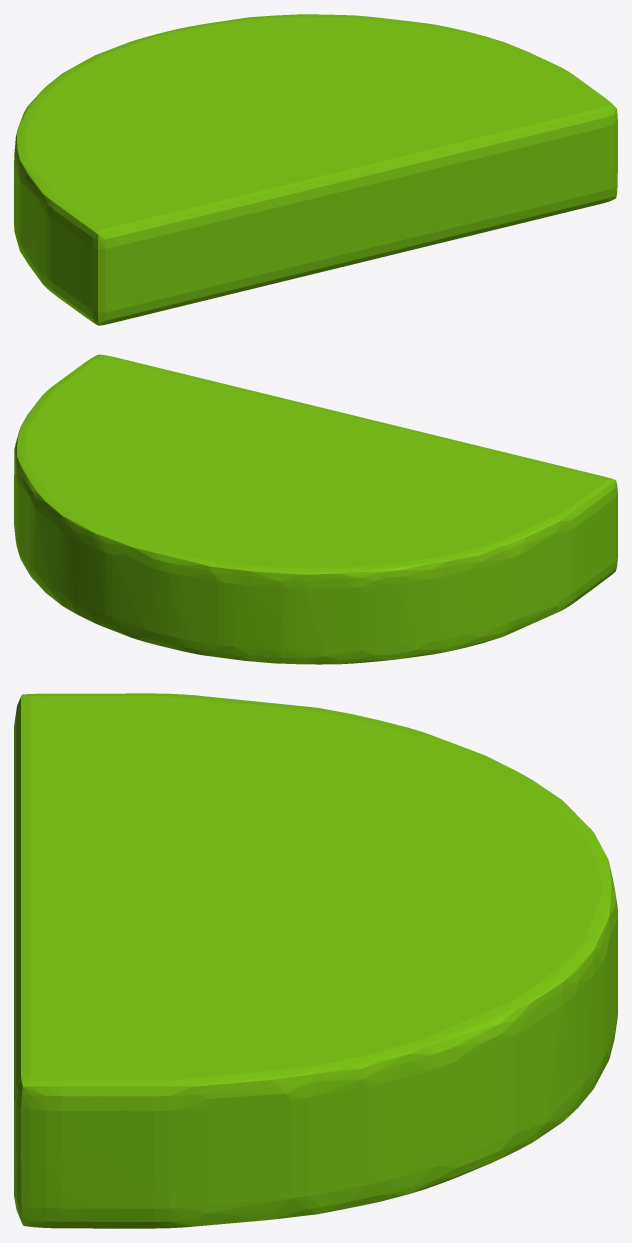
File: right_shoulder_yaw_link_part_4.obj
The picture shows the model from 3 angles, top to bottom: view 1: azimuth 30°, elevation 25°; view 2: azimuth 150°, elevation 25°; view 3: azimuth 270°, elevation 25°; orthographic projection. The views are drawn at different scales.
Size of the model in its own units: 0.0988 by 0.0168 by 0.0633.
